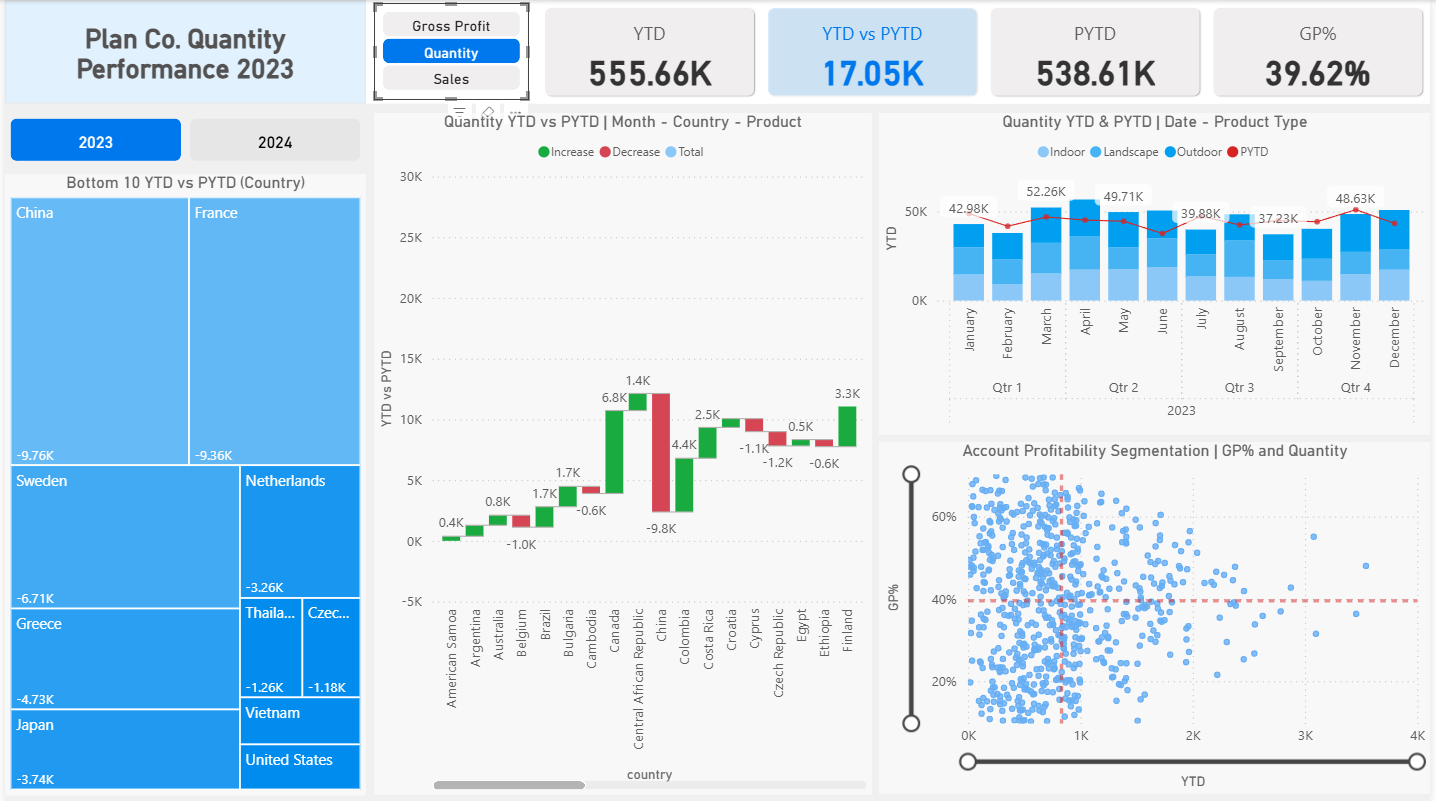

The dashboard page shown, as its layout file describes it:
{"tool":"powerbi","page":{"name":"Performance","canvas":[1280,720],"ordinal":0},"visuals":[{"type":"shape","box":[0,0,1280.4,93.4],"z":0},{"type":"cardVisual","fields":{"Data":["_Measures.S_YTD","_Measures.YTD vs PYTD","_Measures.S_PYTD","_Measures.GP%"]},"box":[477.6,0,802.6,93.4],"z":1000},{"type":"advancedSlicerVisual","fields":{"Values":["Slc_Values.Values"]},"box":[331.3,2.7,139.2,87.1],"z":2000},{"type":"advancedSlicerVisual","fields":{"Values":["Dim_Date.Date.Variation.Date Hierarchy.Year"]},"box":[0,101.4,324.1,48.5],"z":3000},{"type":"treemap","title":"Bottom 10 YTD vs PYTD (Country)","fields":{"Group":["Dim_Account.country"],"Values":["_Measures.YTD vs PYTD"]},"box":[0,156.2,324.1,557.5],"z":4000},{"type":"waterfallChart","fields":{"Y":["_Measures.YTD vs PYTD"],"Category":["Dim_Date.Date.Variation.Date Hierarchy.Month","Dim_Account.country","Dim_Product.Produt_Type","Dim_Product.Product_Name"]},"box":[331.3,101.4,447.1,612.3],"z":5000},{"type":"lineStackedColumnComboChart","fields":{"Y":["_Measures.S_YTD"],"Y2":["_Measures.S_PYTD"],"Series":["Dim_Product.Produt_Type"],"Category":["Dim_Date.Date.Variation.Date Hierarchy.Year","Dim_Date.Date.Variation.Date Hierarchy.Quarter","Dim_Date.Date.Variation.Date Hierarchy.Month"]},"box":[784.6,101.4,495.6,289.1],"z":6000},{"type":"scatterChart","fields":{"Y":["_Measures.GP%"],"X":["_Measures.S_YTD"],"Category":["Dim_Account.Account_id"]},"box":[784.6,396.8,495.6,316],"z":7000},{"type":"card","fields":{"Values":["_Measures._report title"]},"box":[0,0,324.1,93.4],"z":8000}]}

Visuals, with their boxes on the page's 1280x720 design canvas (x1, y1, x2, y2). These are canvas units, not pixel positions in the 1436x801 screenshot, which may show the page scaled, cropped or inside an application window:
shape: l=0, t=0, r=1280, b=93
cardVisual - _Measures.S_YTD x _Measures.YTD vs PYTD: l=478, t=0, r=1280, b=93
advancedSlicerVisual - Slc_Values.Values: l=331, t=3, r=470, b=90
advancedSlicerVisual - Dim_Date.Date.Variation.Date Hierarchy.Year: l=0, t=101, r=324, b=150
"Bottom 10 YTD vs PYTD (Country)" treemap: l=0, t=156, r=324, b=714
waterfallChart - _Measures.YTD vs PYTD x Dim_Date.Date.Variation.Date Hierarchy.Month: l=331, t=101, r=778, b=714
lineStackedColumnComboChart - _Measures.S_YTD x _Measures.S_PYTD: l=785, t=101, r=1280, b=390
scatterChart - _Measures.GP% x _Measures.S_YTD: l=785, t=397, r=1280, b=713
card - _Measures._report title: l=0, t=0, r=324, b=93
